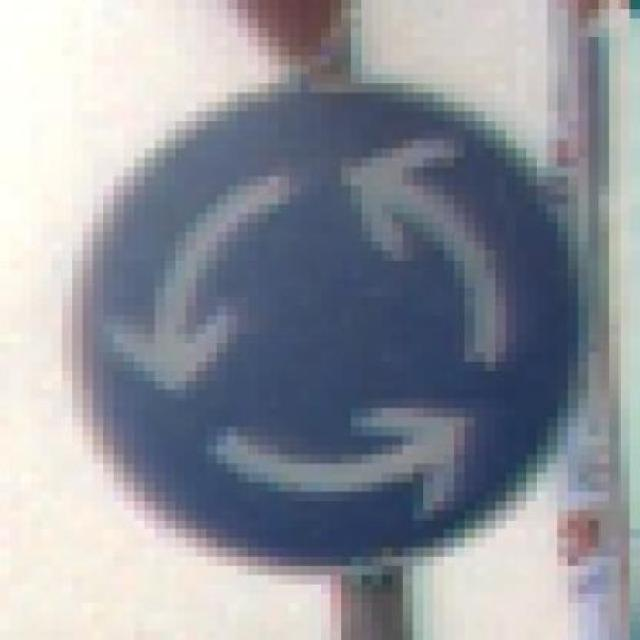Round-About: (21, 65, 619, 584)
